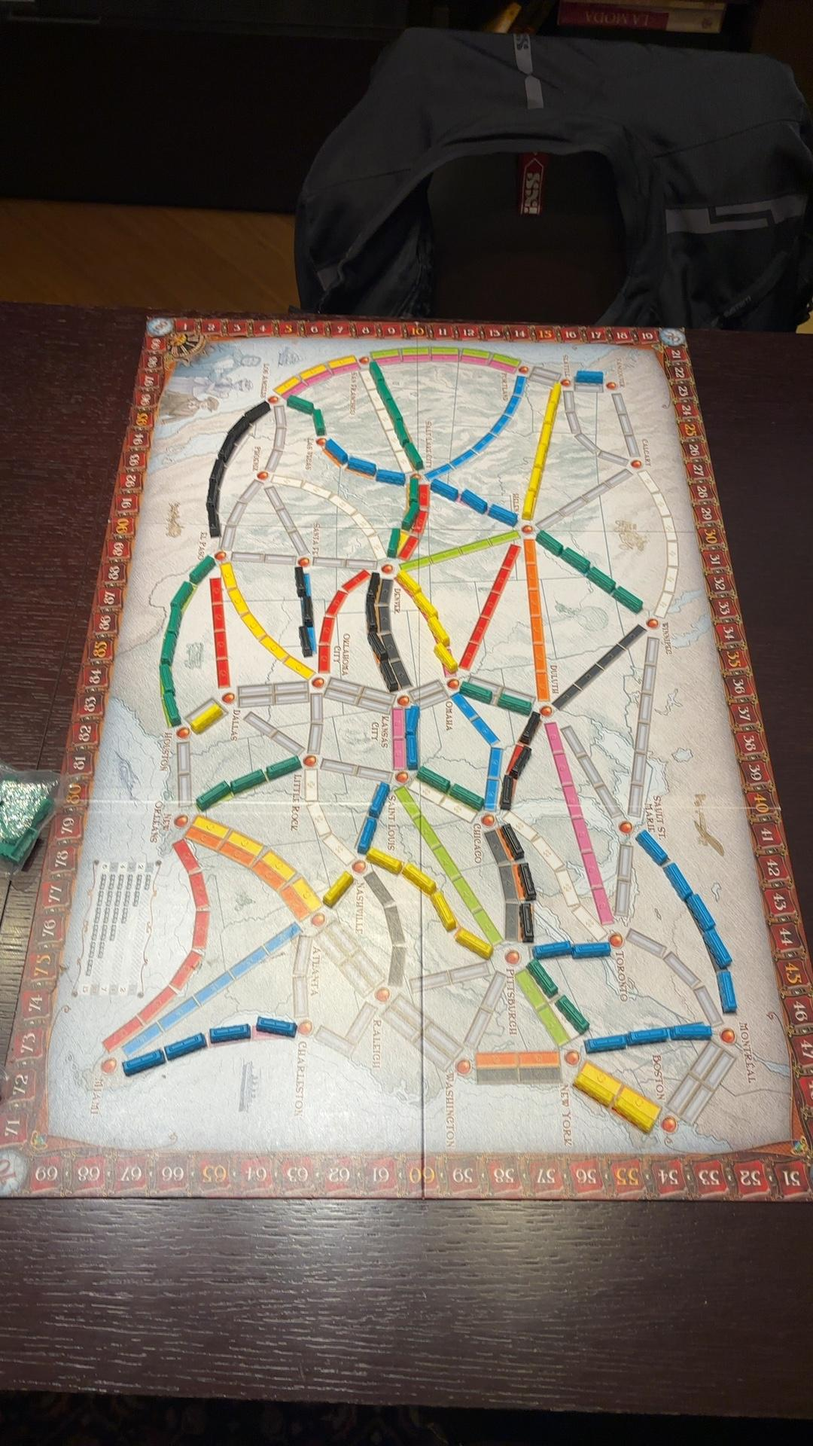black_train: (379, 658, 403, 692), (498, 825, 522, 858), (519, 712, 540, 743), (519, 862, 536, 900), (510, 746, 530, 778), (500, 774, 516, 809), (368, 630, 385, 657), (520, 903, 532, 941), (300, 625, 313, 657), (300, 596, 312, 626), (295, 565, 306, 596)
blue_train: (123, 1049, 166, 1076), (636, 830, 668, 865), (664, 862, 692, 901), (166, 1033, 206, 1060), (704, 928, 731, 968), (687, 892, 714, 930), (256, 1016, 296, 1037), (209, 1023, 250, 1043), (717, 970, 736, 1012), (585, 1035, 626, 1054), (627, 1027, 668, 1045), (533, 941, 572, 959), (670, 1022, 711, 1039), (571, 941, 611, 958), (370, 782, 388, 819), (358, 816, 376, 853), (460, 490, 488, 512), (488, 504, 515, 526), (349, 456, 376, 477), (431, 480, 458, 501), (326, 439, 347, 464), (376, 467, 405, 485), (576, 370, 602, 384)
green_train: (556, 996, 589, 1031), (528, 962, 557, 996), (196, 782, 230, 810), (449, 784, 484, 810), (417, 766, 450, 792), (614, 584, 643, 612), (231, 770, 264, 794), (266, 758, 301, 780), (586, 565, 614, 591), (162, 689, 181, 726), (190, 556, 215, 584), (562, 548, 589, 573), (537, 530, 562, 555), (172, 582, 193, 609), (404, 440, 423, 469), (160, 633, 176, 666), (288, 395, 312, 413), (402, 502, 418, 529), (312, 408, 326, 437), (387, 527, 400, 557), (169, 599, 181, 630), (160, 663, 173, 691), (409, 477, 418, 506)
yellow_train: (613, 1101, 651, 1132), (574, 1075, 611, 1105), (455, 928, 492, 958), (402, 863, 437, 894), (430, 890, 456, 930), (191, 703, 224, 733), (323, 874, 352, 906), (368, 848, 402, 873), (434, 643, 458, 672), (413, 589, 436, 615), (428, 618, 449, 646), (396, 570, 419, 594)
